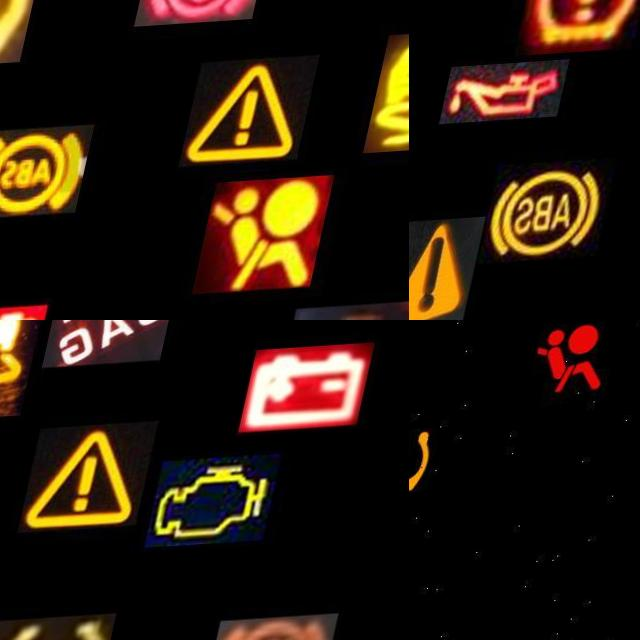Central Warning lamp: (194, 60, 331, 171), (35, 425, 172, 536), (409, 223, 498, 320)
